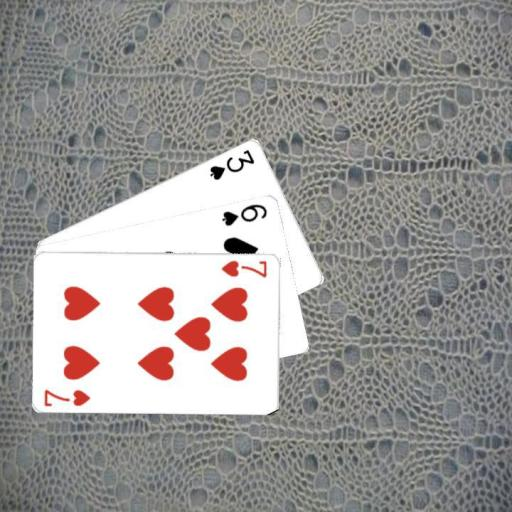3S: (206, 146, 256, 181)
6S: (218, 200, 269, 227)
7H: (218, 257, 269, 279), (41, 386, 92, 408)
